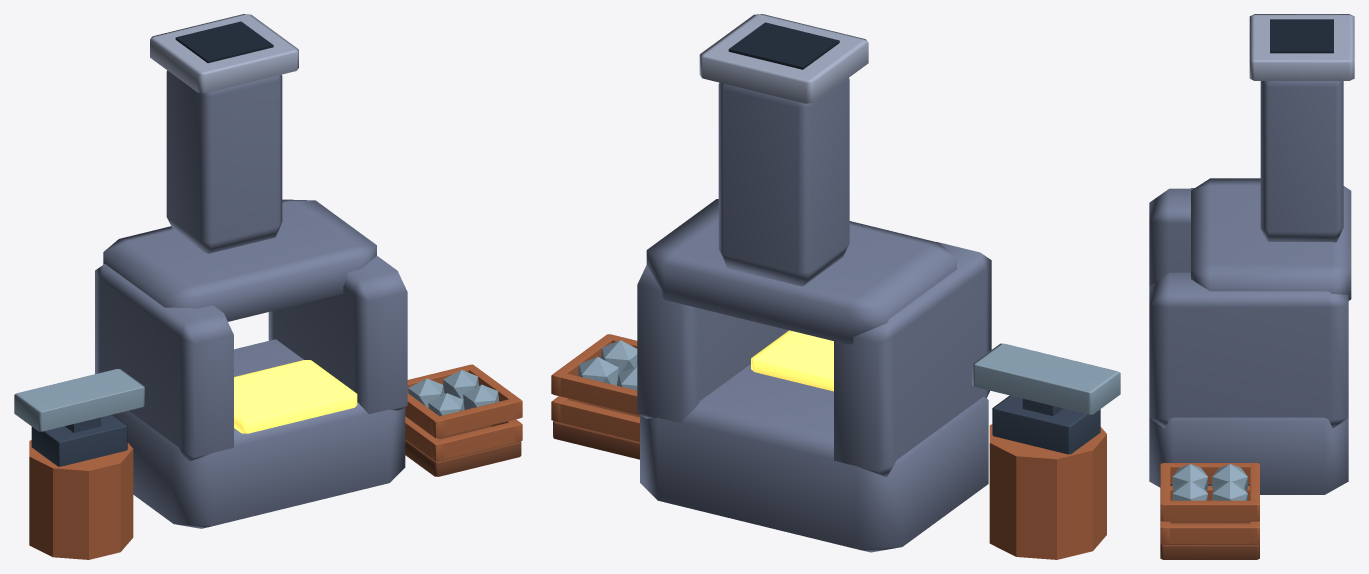
File: iron-foundry.glb
3 views of the same model, side by side, from view 1: azimuth 30°, elevation 25°; view 2: azimuth 150°, elevation 25°; view 3: azimuth 270°, elevation 25° (orthographic). The views are drawn at different scales.
Visible parts, largest first — view 1: Stone hearth, Chimney, Stone hood, Hearth side, Hearth side.001, Anvil stump, Glowing coals, Chimney rim, Anvil face, Anvil foot, Dark flue, Crate base.003 (+8 smaller); view 2: Stone hearth, Chimney, Hearth side, Stone hood, Anvil stump, Hearth side.001, Chimney rim, Anvil face, Anvil foot, Glowing coals, Dark flue, Slatted crate.031 (+5 smaller); view 3: Hearth side.001, Chimney, Stone hood, Stone hearth, Chimney rim, Hearth side, Dark flue, Slatted crate.030, Slatted crate.028, Crate base.003, Slatted crate.026, Crate contents.014 (+5 smaller).
Part boxes in pixels (left/top/right/bottom): Stone hearth: left=112, top=339, right=405, bottom=528; Chimney: left=166, top=70, right=282, bottom=253; Stone hood: left=103, top=199, right=376, bottom=321; Hearth side: left=95, top=264, right=233, bottom=462; Hearth side.001: left=268, top=256, right=407, bottom=414; Anvil stump: left=29, top=440, right=133, bottom=559; Glowing coals: left=234, top=360, right=357, bottom=433; Chimney rim: left=150, top=14, right=298, bottom=93; Anvil face: left=14, top=368, right=144, bottom=431; Anvil foot: left=31, top=414, right=127, bottom=466; Dark flue: left=175, top=21, right=273, bottom=63; Crate base.003: left=405, top=425, right=521, bottom=476; Stone hearth: left=640, top=364, right=988, bottom=552; Chimney: left=718, top=78, right=849, bottom=286; Hearth side: left=834, top=242, right=991, bottom=477; Stone hood: left=646, top=199, right=956, bottom=344; Anvil stump: left=989, top=424, right=1106, bottom=559; Hearth side.001: left=637, top=265, right=788, bottom=423; Chimney rim: left=699, top=14, right=868, bottom=103; Anvil face: left=972, top=343, right=1120, bottom=414; Anvil foot: left=992, top=395, right=1100, bottom=454; Glowing coals: left=751, top=330, right=833, bottom=391; Dark flue: left=728, top=22, right=839, bottom=69; Slatted crate.031: left=551, top=372, right=639, bottom=415; Hearth side.001: left=1149, top=272, right=1348, bottom=428; Chimney: left=1260, top=81, right=1343, bottom=242; Stone hood: left=1191, top=178, right=1351, bottom=300; Stone hearth: left=1149, top=417, right=1348, bottom=494; Chimney rim: left=1249, top=14, right=1354, bottom=80; Hearth side: left=1149, top=188, right=1193, bottom=286; Dark flue: left=1270, top=19, right=1333, bottom=53; Slatted crate.030: left=1160, top=500, right=1259, bottom=521; Slatted crate.028: left=1160, top=523, right=1259, bottom=544; Crate base.003: left=1160, top=521, right=1259, bottom=559; Slatted crate.026: left=1160, top=463, right=1258, bottom=483; Crate contents.014: left=1212, top=464, right=1247, bottom=490.
Bounding box in the file's own units: 4.85 × 4.14 × 1.85.
